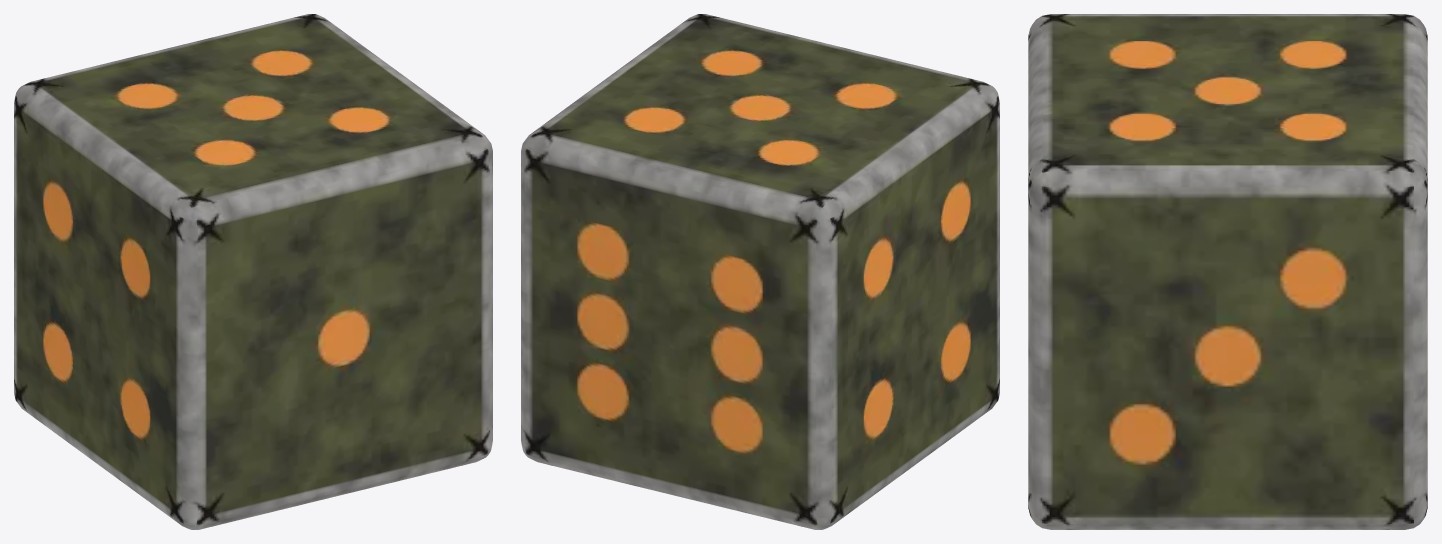
Rendered from orc-d6.glb.
3 views of the same model, side by side, from view 1: azimuth 30°, elevation 25°; view 2: azimuth 150°, elevation 25°; view 3: azimuth 270°, elevation 25° (orthographic). The views are drawn at different scales.
Parts seen in each view (by area): view 1: orc_d6; view 2: orc_d6; view 3: orc_d6.
Boxes of the visible parts, x1,y1,x2,y2 form: orc_d6: (14,14,492,529); orc_d6: (521,14,999,529); orc_d6: (1028,14,1427,529).
Size of the model in its own units: 1.4 by 1.4 by 1.4.
1 material, 1 textured.
